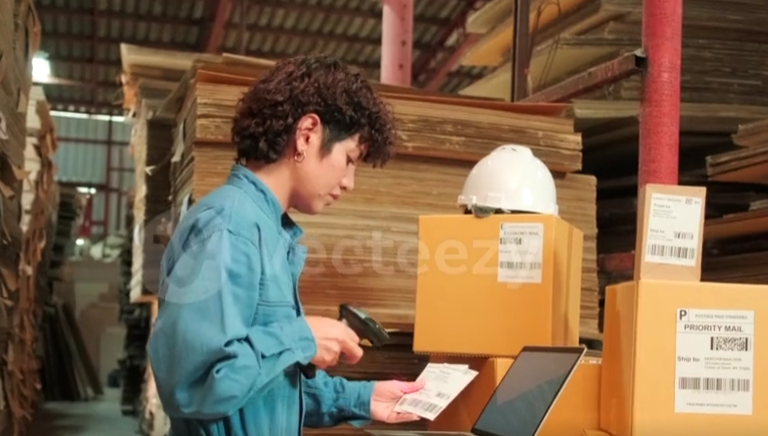safety_helmet: (456, 143, 559, 217)
